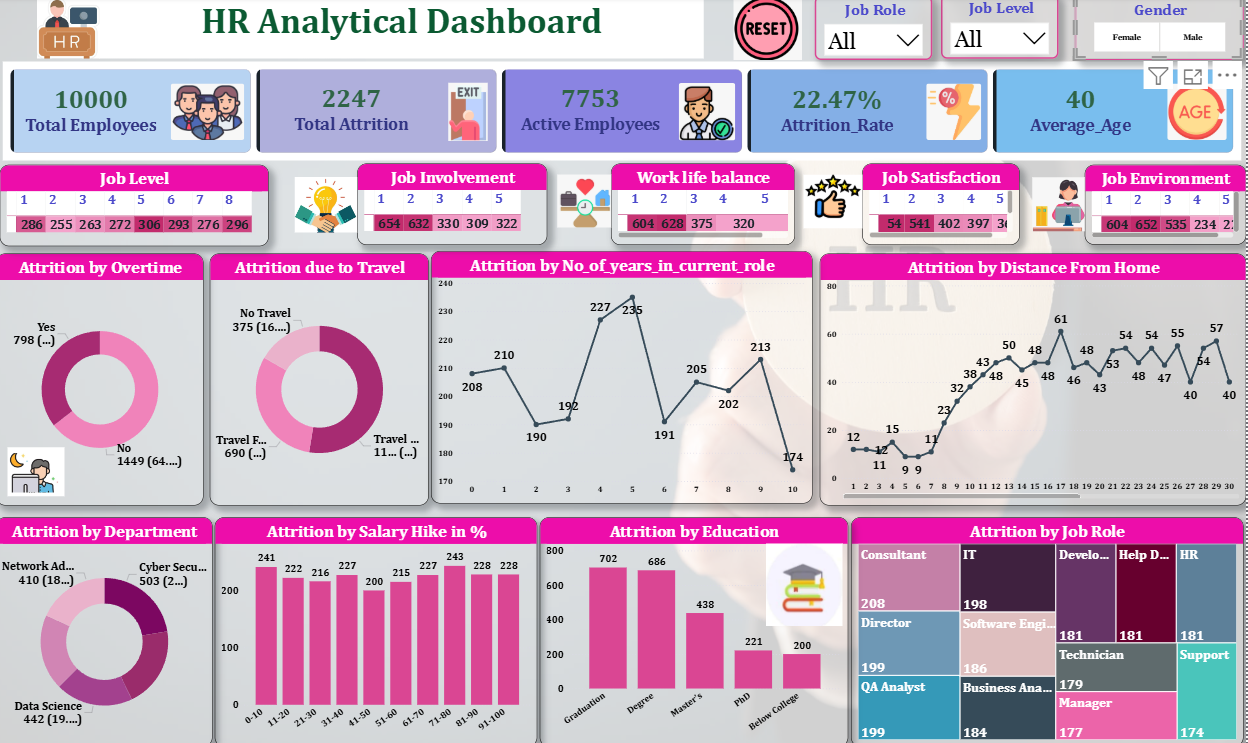

Layout of this report page (visuals, bound fields, positions):
{"tool":"powerbi","page":{"name":"Page 1","canvas":[2000,1200],"ordinal":0},"visuals":[{"type":"cardVisual","fields":{"Data":["CountNonNull(Employees.Employee_ID)","Employees.Attrition_YES","Employees.Attrition_NO","Employees.Attrition_Rate","Employees.Average_Age"]},"box":[6,100,1994,168],"z":0},{"type":"donutChart","title":"Attrition by Department","fields":{"Category":["Employees.Department"],"Y":["Employees.Attrition_YES"]},"box":[0,833.6,346.5,366.8],"z":1000},{"type":"treemap","title":"Attrition by Job Role","fields":{"Group":["Employees.Job_Role"],"Values":["Employees.Attrition_YES"]},"box":[1367.5,833.6,627.7,366.8],"z":2000},{"type":"lineChart","title":"Attrition by Distance From Home","fields":{"Category":["Employees.Distance_From_Home"],"Y":["Employees.Attrition_YES"]},"box":[1317.3,411.7,682.7,403.5],"z":3000},{"type":"donutChart","title":"Attrition by Overtime","fields":{"Category":["Employees.Overtime"],"Y":["Employees.Attrition_YES"]},"box":[0,411.7,332.2,403.5],"z":4000},{"type":"pivotTable","title":"Job Environment","fields":{"Values":["Employees.Attrition_YES"],"Columns":["Employees.Environment_Satisfaction"]},"box":[1742,270,258,128],"z":5000},{"type":"pivotTable","title":"Job Satisfaction","fields":{"Values":["Employees.Attrition_YES"],"Columns":["Employees.Job_Satisfaction"]},"box":[1386,268,252,130],"z":6000},{"type":"pivotTable","title":"Work life balance","fields":{"Values":["Employees.Attrition_YES"],"Columns":["Employees.Work_life_balance"]},"box":[984,268,294,130],"z":7000},{"type":"donutChart","title":"Attrition due to Travel","fields":{"Category":["Employees.Business_Travel"],"Y":["Employees.Attrition_YES"]},"box":[341,411.7,350.5,403.5],"z":8000},{"type":"lineChart","title":"Attrition by No_of_years_in_current_role","fields":{"Category":["Employees.No_of_years_in_current_role"],"Y":["Employees.Attrition_YES"]},"box":[696,408,610,404],"z":9000},{"type":"columnChart","title":"Attrition by Salary Hike in %","fields":{"Y":["Employees.Attrition_YES"],"Category":["Employees.Salary_Hike_in_percent (groups)"]},"box":[350.5,833.6,515.6,366.8],"z":10000},{"type":"columnChart","title":"Attrition by Education","fields":{"Y":["Employees.Attrition_YES"],"Category":["Employees.Education"]},"box":[870.2,833.6,493.2,366.8],"z":11000},{"type":"pivotTable","title":"Job Involvement","fields":{"Values":["Employees.Attrition_YES"],"Columns":["Employees.Job_Involvement"]},"box":[578,268,304,130],"z":12000},{"type":"pivotTable","title":"Job Level","fields":{"Values":["Employees.Attrition_YES"],"Columns":["Employees.Job_Level"]},"box":[6,270,430,130],"z":13000},{"type":"textbox","box":[166,0,966,100],"z":14000},{"type":"image","box":[0,0,232,100],"z":15000},{"type":"image","box":[1658,278,84,110],"z":16000},{"type":"image","box":[1292,270,94,118],"z":17000},{"type":"image","box":[898,252,86,152],"z":18000},{"type":"image","box":[478,260,100,148],"z":19000},{"type":"image","box":[1232,868,122,148],"z":20000},{"type":"image","box":[0,722,128,78],"z":21000},{"type":"slicer","title":"Gender","fields":{"Values":["Employees.Gender"]},"box":[1726,0,270,102],"z":22000},{"type":"slicer","title":"Job Level","fields":{"Values":["Employees.Job_Level"]},"box":[1512,-2,188,102],"z":23000},{"type":"slicer","title":"Job Role","fields":{"Values":["Employees.Job_Role"]},"box":[1310,0,188,102],"z":24000},{"type":"image","box":[1116,0,238,102],"z":25000}]}

Visuals, with their boxes in screenshot pixels (x1, y1, x2, y2), scaled from the page's 2000x1200 canvas onto the 1248x743 screenshot:
cardVisual - CountNonNull(Employees.Employee_ID) x Employees.Attrition_YES: 4 62 1247 166
"Attrition by Department" donutChart: 0 516 216 742
"Attrition by Job Role" treemap: 853 516 1245 742
"Attrition by Distance From Home" lineChart: 822 255 1247 505
"Attrition by Overtime" donutChart: 0 255 207 505
"Job Environment" pivotTable: 1087 167 1247 246
"Job Satisfaction" pivotTable: 865 166 1022 246
"Work life balance" pivotTable: 614 166 797 246
"Attrition due to Travel" donutChart: 213 255 431 505
"Attrition by No_of_years_in_current_role" lineChart: 434 253 815 503
"Attrition by Salary Hike in %" columnChart: 219 516 540 742
"Attrition by Education" columnChart: 543 516 851 742
"Job Involvement" pivotTable: 361 166 550 246
"Job Level" pivotTable: 4 167 272 248
textbox: 104 0 706 62
image: 0 0 145 62
image: 1035 172 1087 240
image: 806 167 865 240
image: 560 156 614 250
image: 298 161 361 253
image: 769 537 845 629
image: 0 447 80 495
"Gender" slicer: 1077 0 1246 63
"Job Level" slicer: 943 0 1061 62
"Job Role" slicer: 817 0 935 63
image: 696 0 845 63
